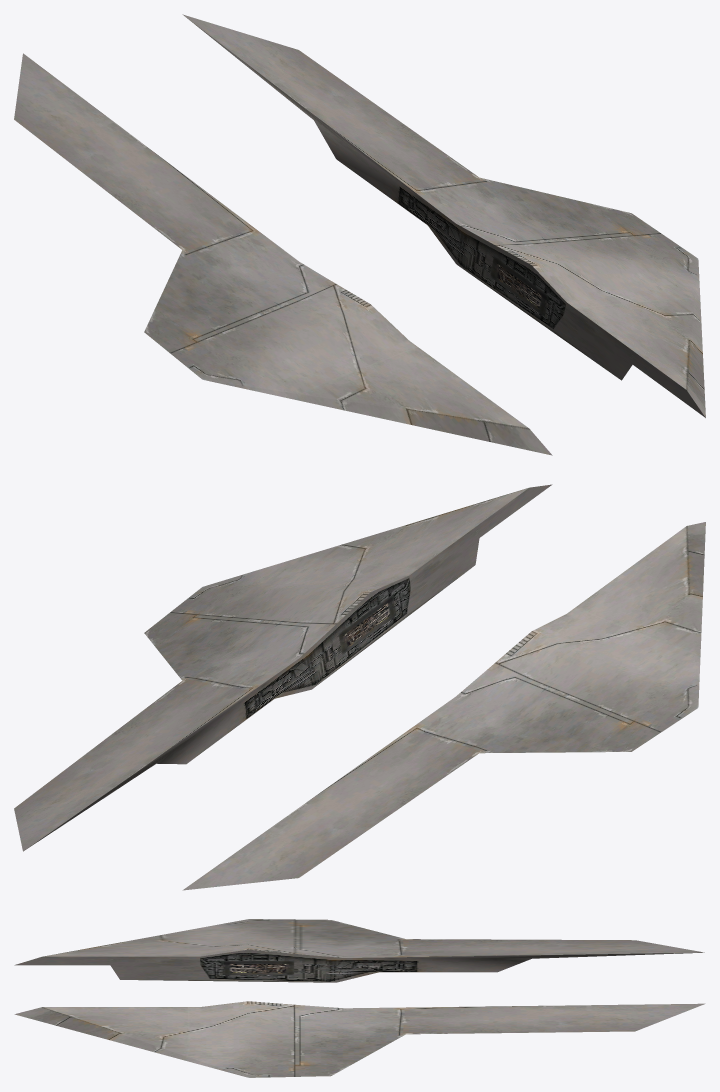
Rendered from hutt_fighter_light_struct_s02_l1.fbx.
3 renders of one model, top to bottom at view 1: azimuth 30°, elevation 25°; view 2: azimuth 150°, elevation 25°; view 3: azimuth 270°, elevation 25°, orthographic. The views are drawn at different scales.
Visible parts, largest first — view 1: mesh_node; view 2: mesh_node; view 3: mesh_node.
Part boxes in pixels (x1,y1,x2,y2): mesh_node: [14, 14, 705, 455]; mesh_node: [14, 484, 705, 890]; mesh_node: [14, 919, 705, 1077].
Size of the model in its own units: 12.08 by 1.25 by 22.22.
1 material, 1 textured.
